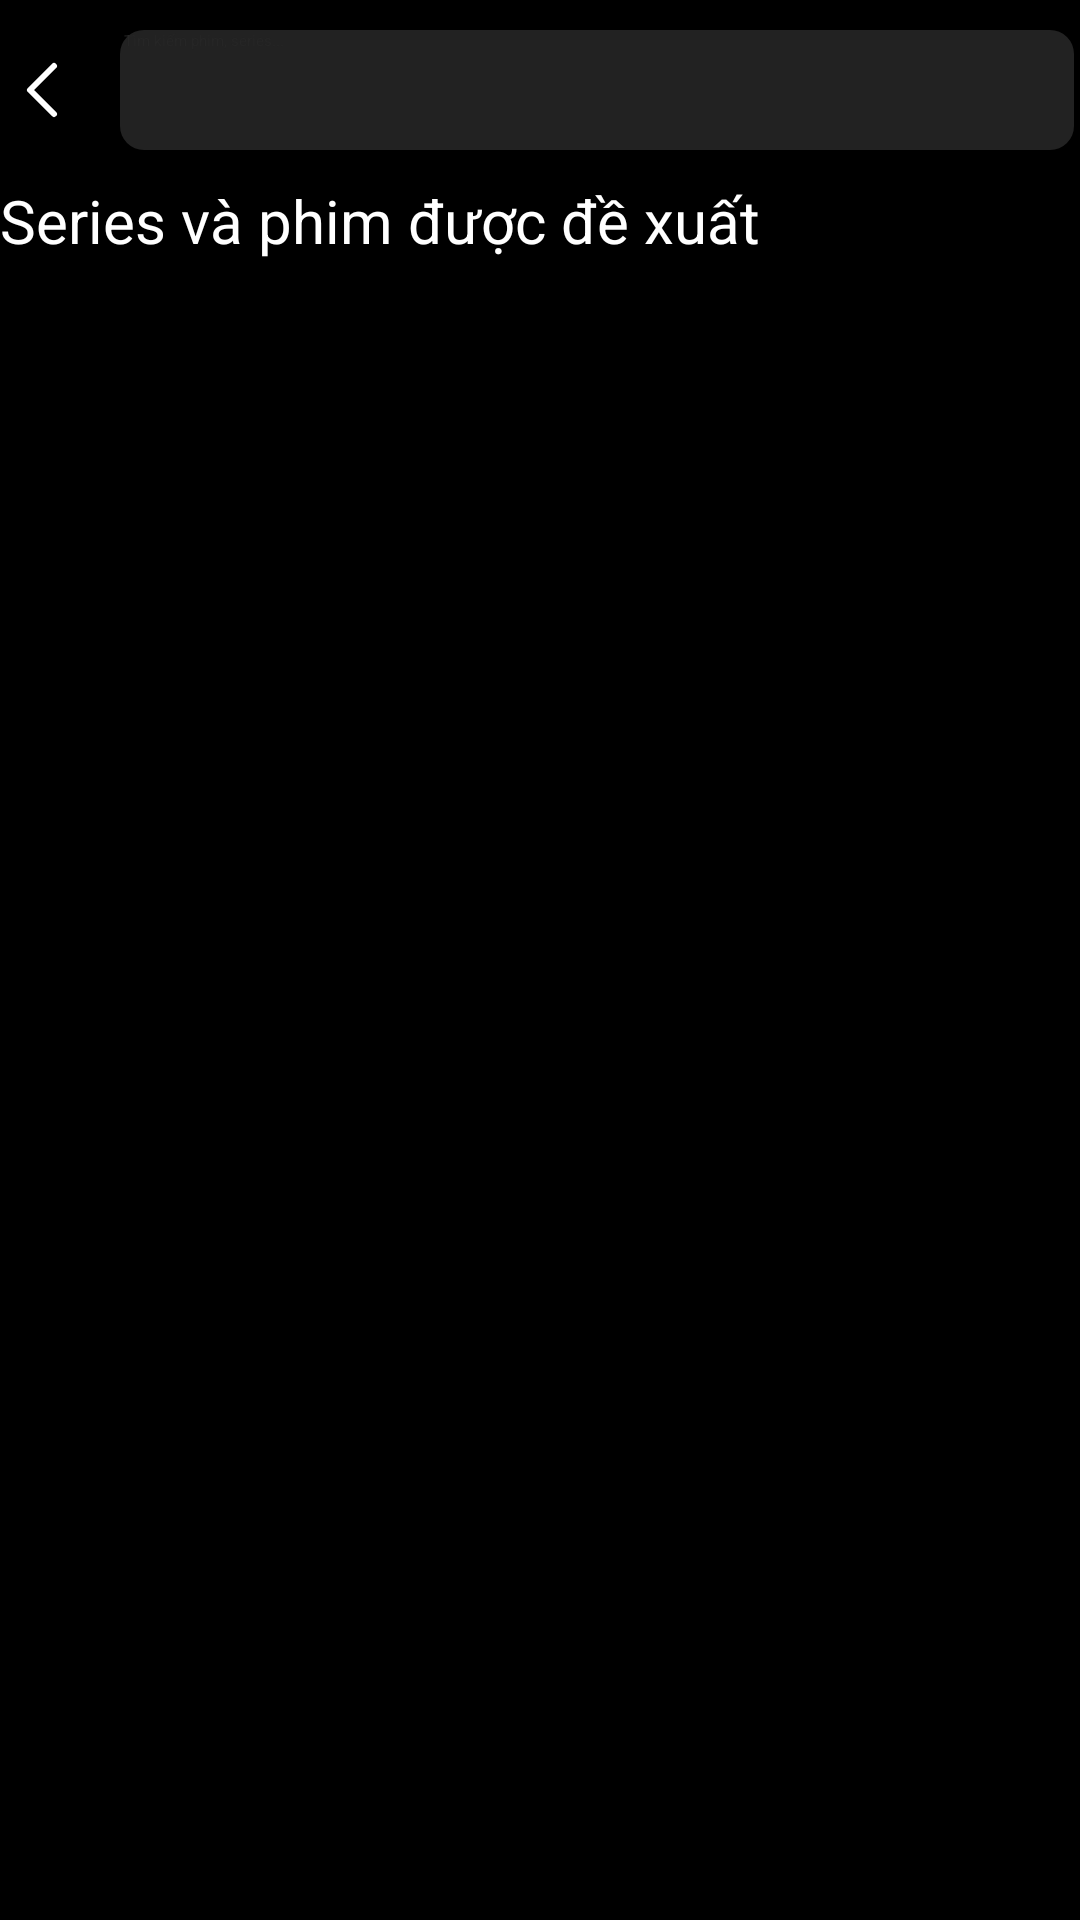

Locate icon controls on the screen. Image size 1080px×1920px, boxes as box(x1, y1, x2, y2).
arrow back: box(27, 62, 57, 117)
